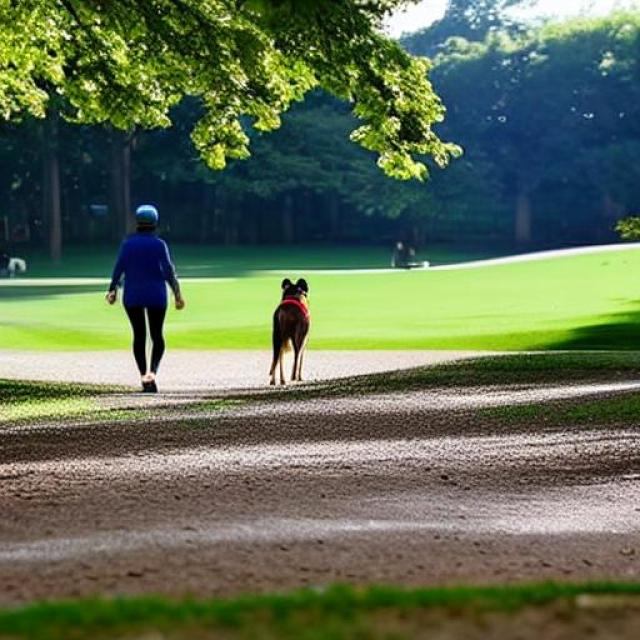Unleashed_Dog: (129, 271, 311, 386)
